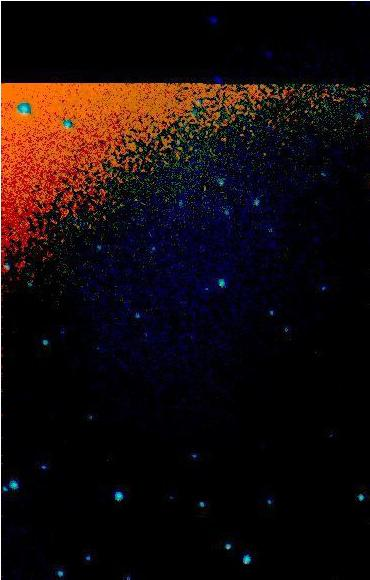star: (91, 448, 121, 478)
